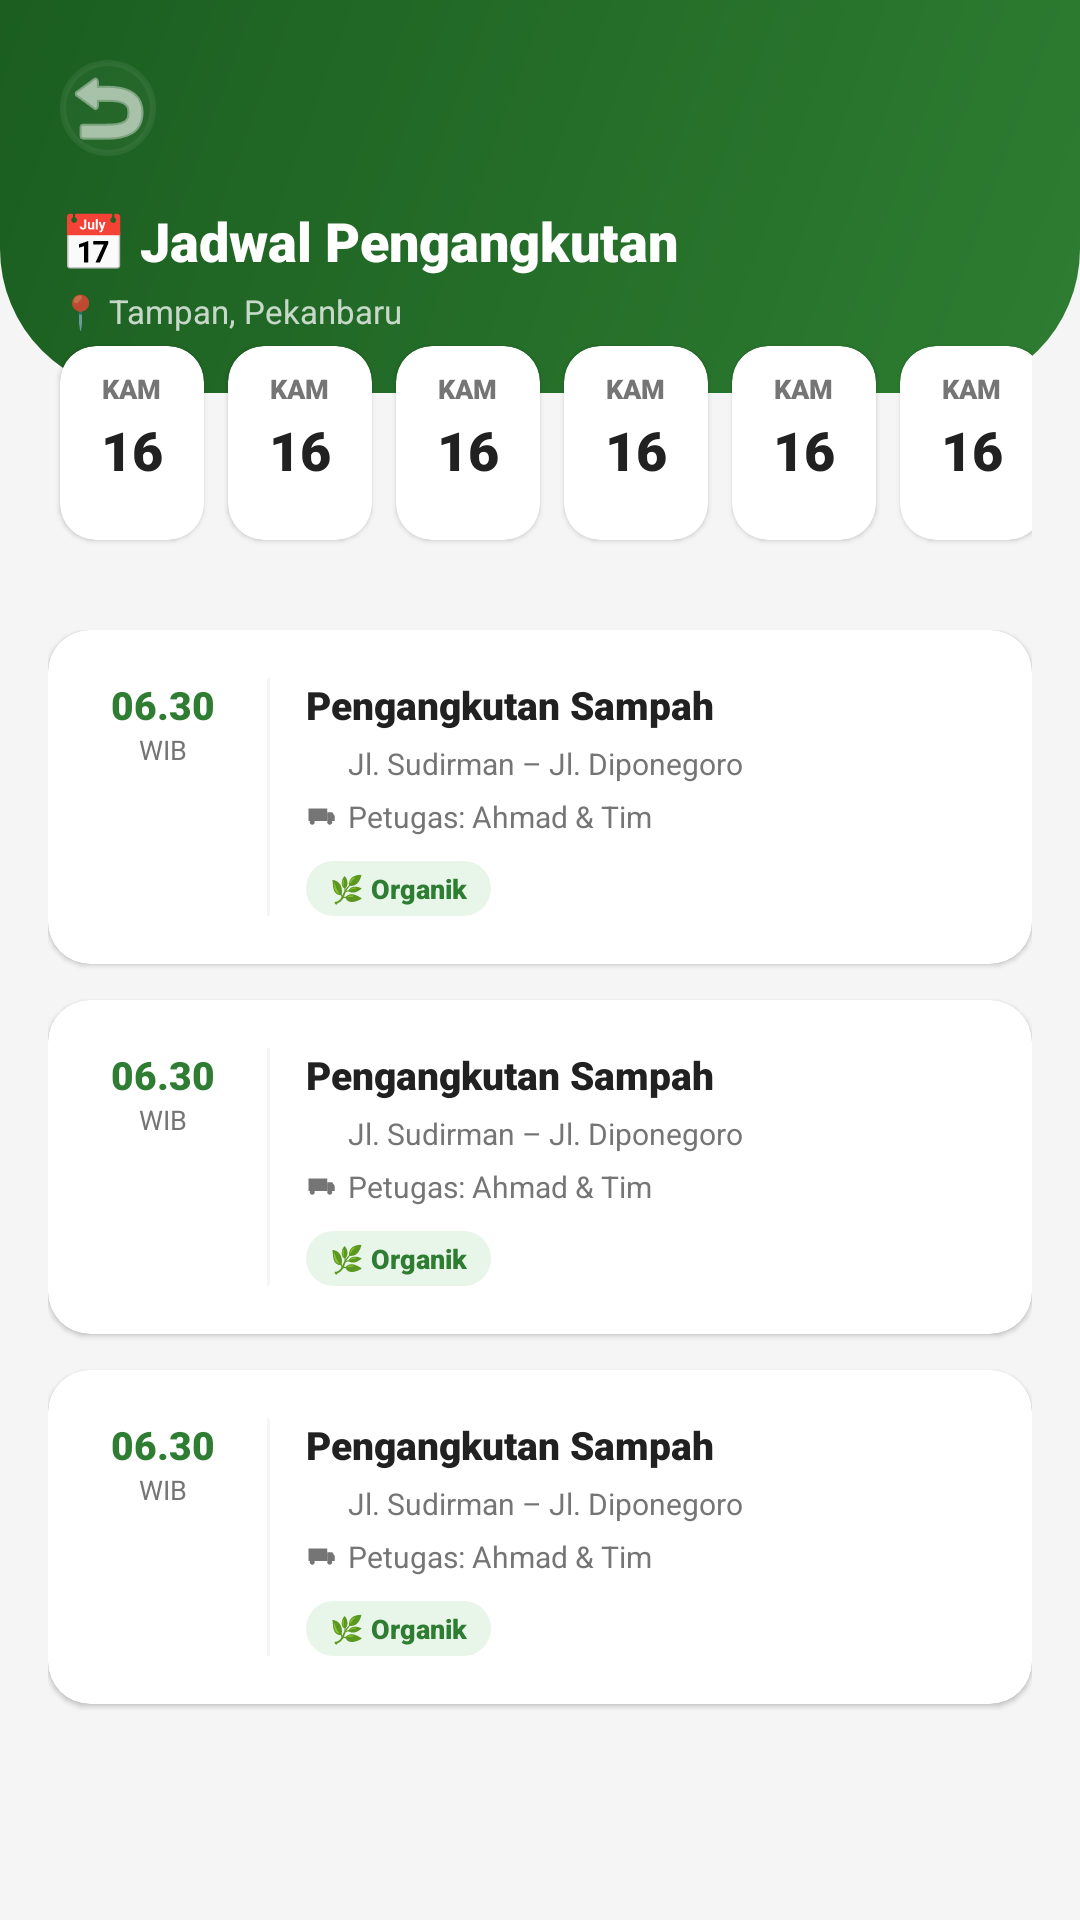

Where icons sit on this 1080 x 1920 app screen, as (x1, y1, x2, y2):
revert: (75, 77, 144, 140)
shipping: (308, 808, 335, 825), (308, 1178, 335, 1195), (308, 1548, 335, 1565)
